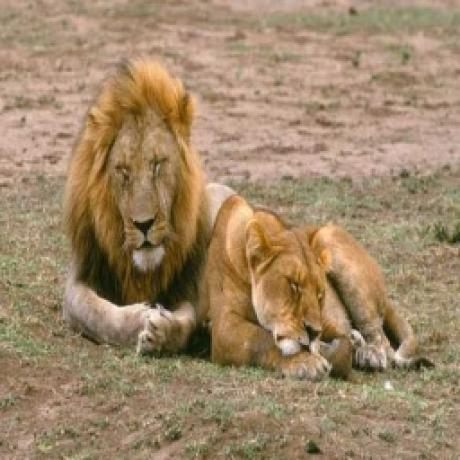Lion: (59, 62, 240, 360), (198, 189, 438, 382)
